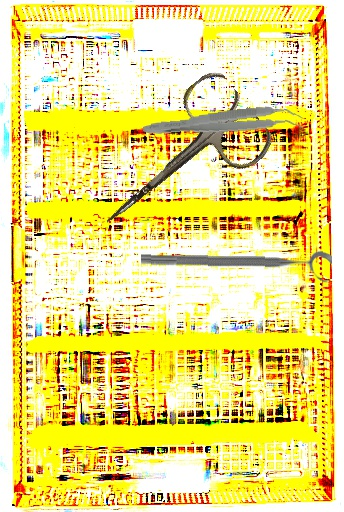Fixation Ring: (140, 248, 333, 284)
Iris Scissors: (73, 65, 280, 260)
Tissue Forceps: (142, 102, 304, 146)
